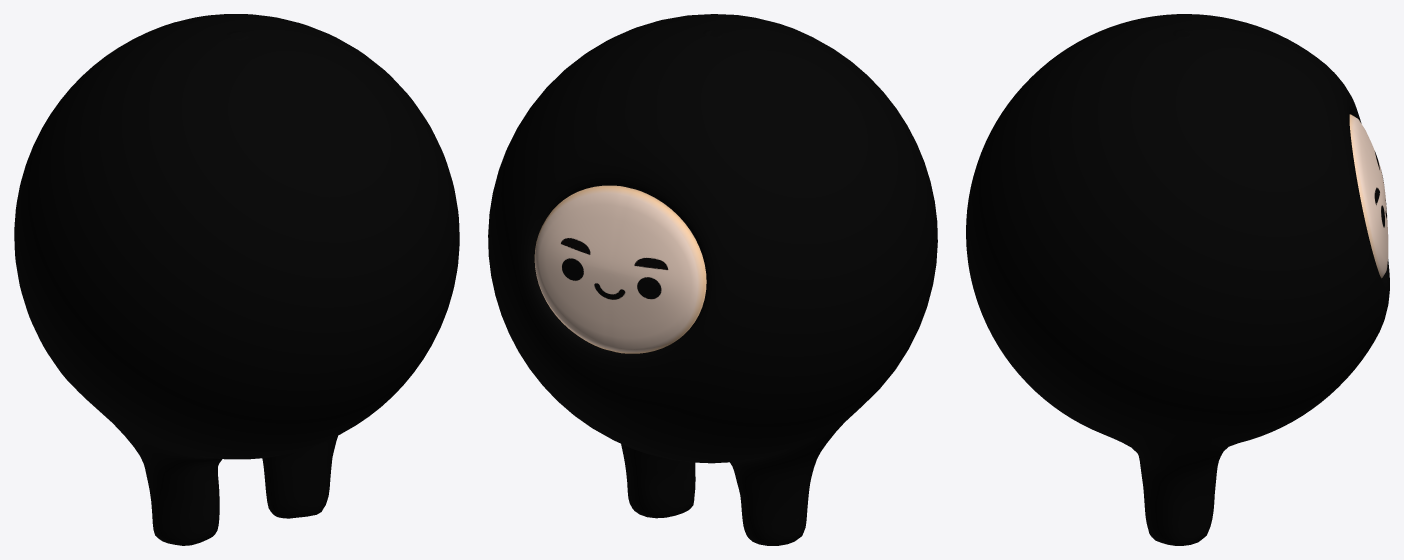
File: RoundOne2_WATER1.fbx
The picture shows the model from 3 angles, left to right: view 1: azimuth 30°, elevation 25°; view 2: azimuth 150°, elevation 25°; view 3: azimuth 270°, elevation 25°; orthographic projection. The views are drawn at different scales.
Parts seen in each view (by area): view 1: body; view 2: body; view 3: body.
Boxes of the visible parts, bbox=[...] form: body: bbox=[14, 14, 459, 545]; body: bbox=[488, 14, 937, 545]; body: bbox=[966, 14, 1389, 545].
Bounding box in the file's own units: 7.7 × 9.27 × 7.48.
